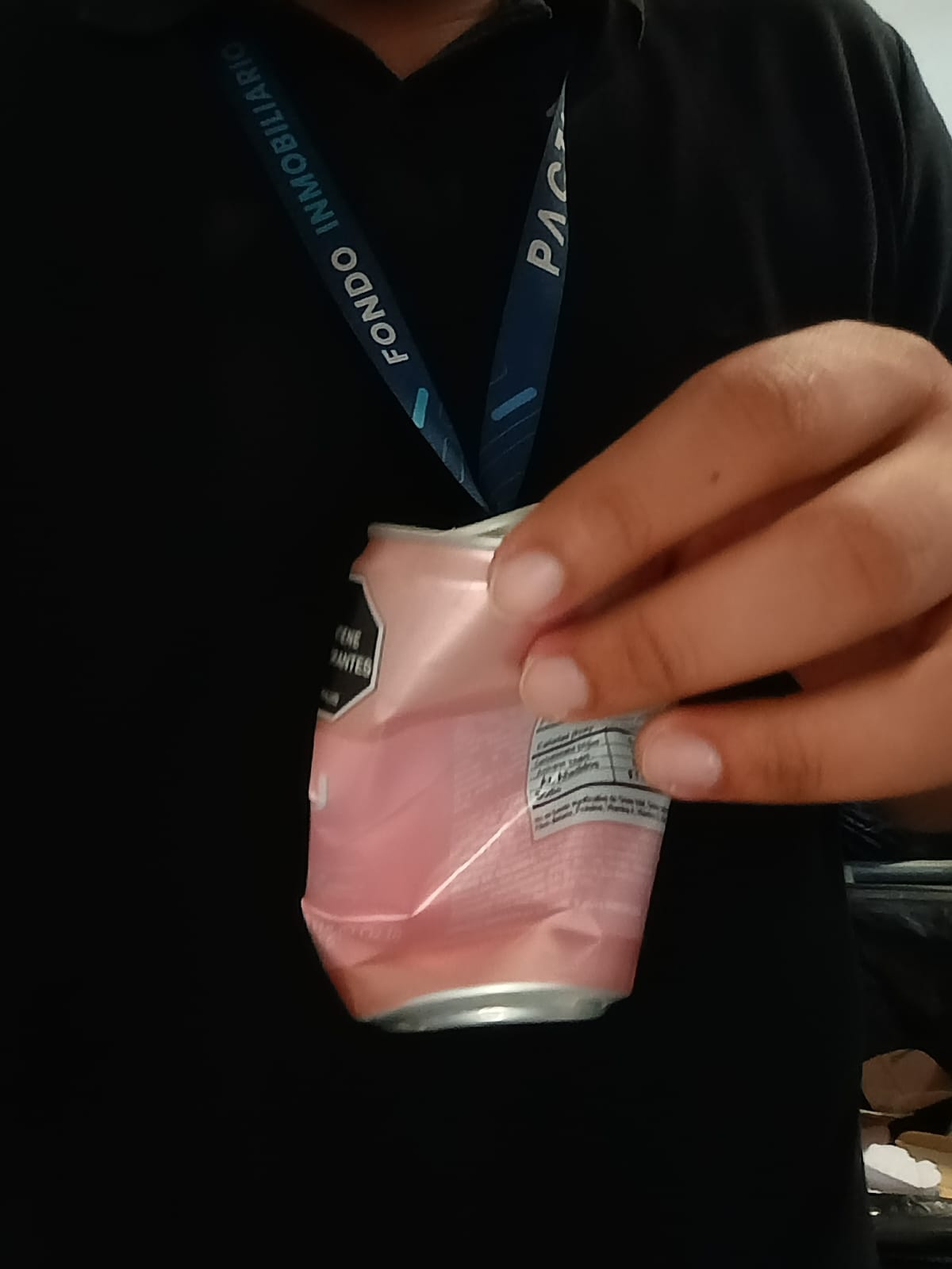Metal: (299, 513, 682, 1028)
